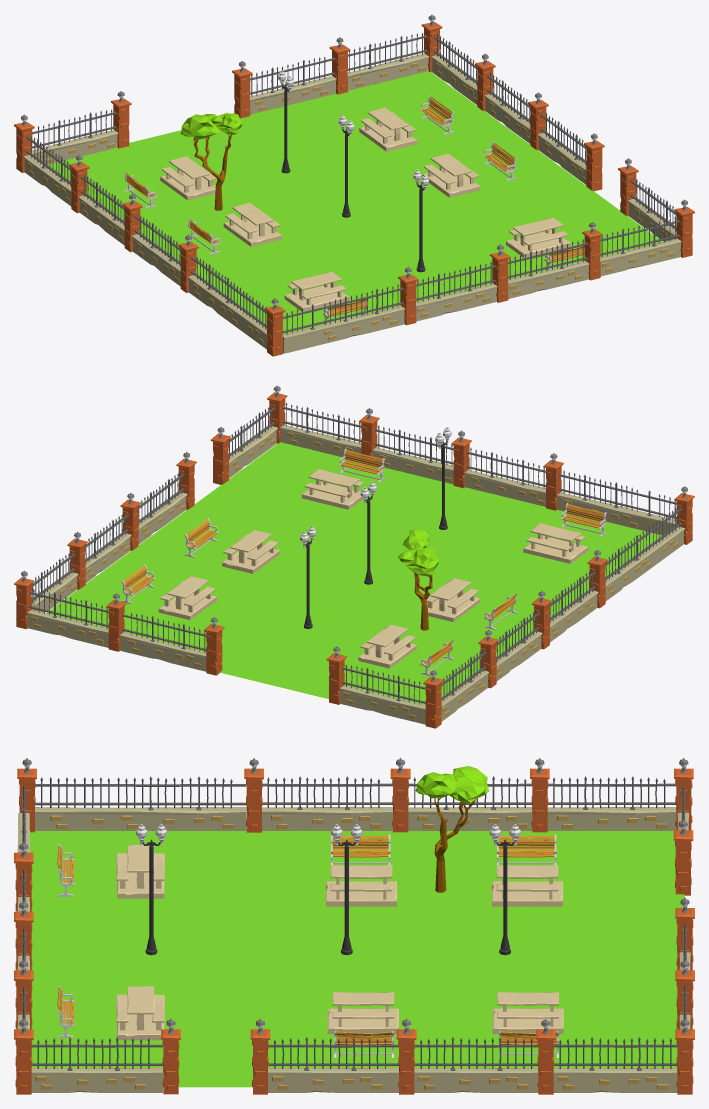
The model's file is Park_tran.glb.
3 views of the same model, one above another, from view 1: azimuth 30°, elevation 25°; view 2: azimuth 150°, elevation 25°; view 3: azimuth 270°, elevation 25° (orthographic). The views are drawn at different scales.
Visible parts, largest first — view 1: Plane.043, SM_Env_Fence_28.001, SM_Env_Fence_24.003, SM_Env_Fence_30, SM_Env_Fence_29, SM_Env_Fence_28, SM_Env_Fence_21, SM_Env_Fence_21.001, SM_Env_Fence_23, SM_Env_Tree_21.002, SM_Env_Fence_24.002, SM_Prop_PicnicTable_4.002 (+32 smaller); view 2: Plane.043, SM_Env_Fence_28.001, SM_Env_Fence_24.003, SM_Env_Fence_23, SM_Env_Fence_21.001, SM_Env_Fence_21, SM_Env_Fence_28, SM_Env_Fence_30, SM_Env_Fence_29, SM_Env_Tree_21.002, SM_Env_Fence_19.001, SM_Prop_PicnicTable_4.002 (+34 smaller); view 3: Plane.043, SM_Env_Fence_24.003, SM_Env_Fence_1681, SM_Env_Fence_19.001, SM_Env_Fence_20, SM_Env_Fence_19, SM_Env_Fence_24, SM_Env_Fence_24.002, SM_Env_Fence_24.001, SM_Env_Tree_21.002, SM_Prop_PicnicTable_4.004, SM_Prop_PicnicTable_4 (+31 smaller).
Boxes of the visible parts, x1,y1,x2,y2 form: Plane.043: [48, 71, 662, 334]; SM_Env_Fence_28.001: [282, 284, 405, 353]; SM_Env_Fence_24.003: [188, 256, 267, 349]; SM_Env_Fence_30: [600, 216, 681, 276]; SM_Env_Fence_29: [508, 239, 589, 298]; SM_Env_Fence_28: [416, 261, 497, 321]; SM_Env_Fence_21: [347, 33, 429, 90]; SM_Env_Fence_21.001: [250, 56, 336, 114]; SM_Env_Fence_23: [32, 109, 118, 164]; SM_Env_Tree_21.002: [180, 113, 242, 210]; SM_Env_Fence_24.002: [131, 215, 181, 286]; SM_Prop_PicnicTable_4.002: [284, 271, 349, 311]; Plane.043: [46, 442, 661, 704]; SM_Env_Fence_28.001: [556, 470, 676, 534]; SM_Env_Fence_24.003: [605, 505, 685, 601]; SM_Env_Fence_23: [339, 664, 425, 724]; SM_Env_Fence_21.001: [120, 613, 206, 671]; SM_Env_Fence_21: [27, 589, 108, 647]; SM_Env_Fence_28: [464, 448, 545, 506]; SM_Env_Fence_30: [280, 403, 361, 461]; SM_Env_Fence_29: [372, 425, 453, 484]; SM_Env_Tree_21.002: [397, 529, 438, 630]; SM_Env_Fence_19.001: [138, 472, 187, 544]; SM_Prop_PicnicTable_4.002: [523, 523, 588, 563]; Plane.043: [30, 829, 684, 1087]; SM_Env_Fence_24.003: [35, 776, 246, 830]; SM_Env_Fence_1681: [31, 1037, 162, 1092]; SM_Env_Fence_19.001: [268, 1037, 398, 1092]; SM_Env_Fence_20: [553, 1037, 677, 1092]; SM_Env_Fence_19: [414, 1037, 538, 1092]; SM_Env_Fence_24: [547, 776, 676, 830]; SM_Env_Fence_24.002: [262, 776, 392, 830]; SM_Env_Fence_24.001: [408, 776, 532, 830]; SM_Env_Tree_21.002: [415, 766, 489, 892]; SM_Prop_PicnicTable_4.004: [327, 992, 398, 1033]; SM_Prop_PicnicTable_4: [492, 865, 562, 906].
Size of the model in its own units: 0.6598 by 0.1479 by 0.7056.
